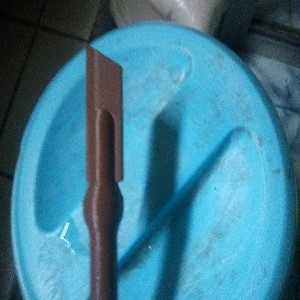cutter: (81, 41, 124, 300)
